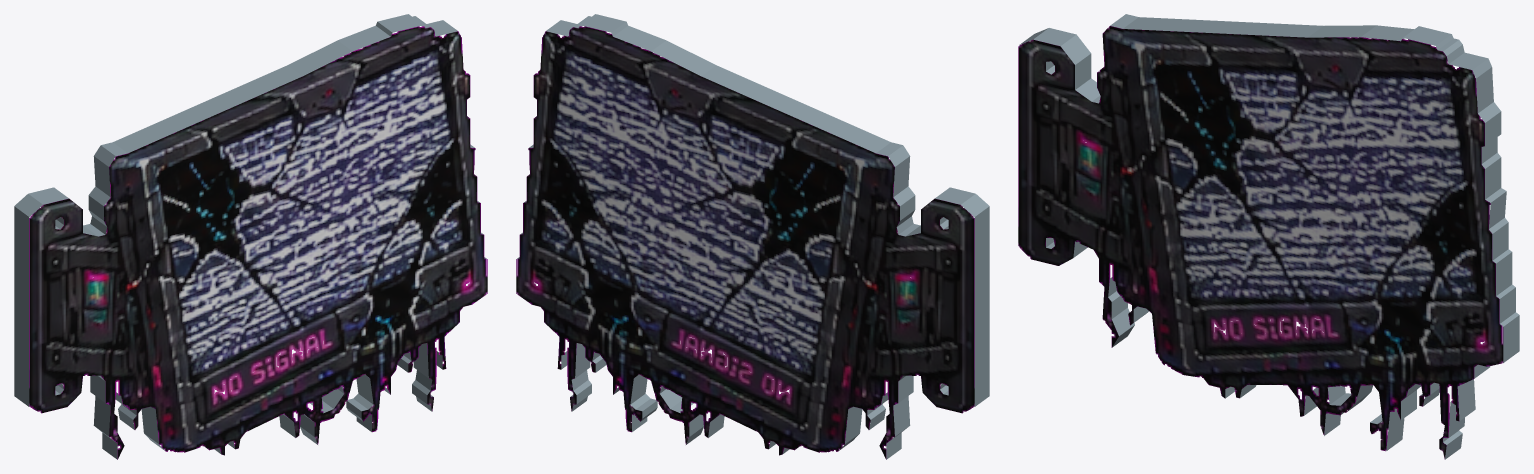
File: chrome-screen.glb
3 views of the same model, side by side, from view 1: azimuth 30°, elevation 25°; view 2: azimuth 150°, elevation 25°; view 3: azimuth 330°, elevation 25° (orthographic). The views are drawn at different scales.
Visible parts, largest first — view 1: painted-faces, side-shell; view 2: painted-faces, side-shell; view 3: painted-faces, side-shell.
Part boxes in pixels (<box>): painted-faces: <box>29,26,487,459</box>; side-shell: <box>14,14,486,459</box>; painted-faces: <box>516,26,974,459</box>; side-shell: <box>517,14,989,459</box>; painted-faces: <box>1018,26,1503,459</box>; side-shell: <box>1019,14,1519,459</box>.
Bounding box in the file's own units: 1.22 × 1 × 0.07.
2 materials, 1 textured.
